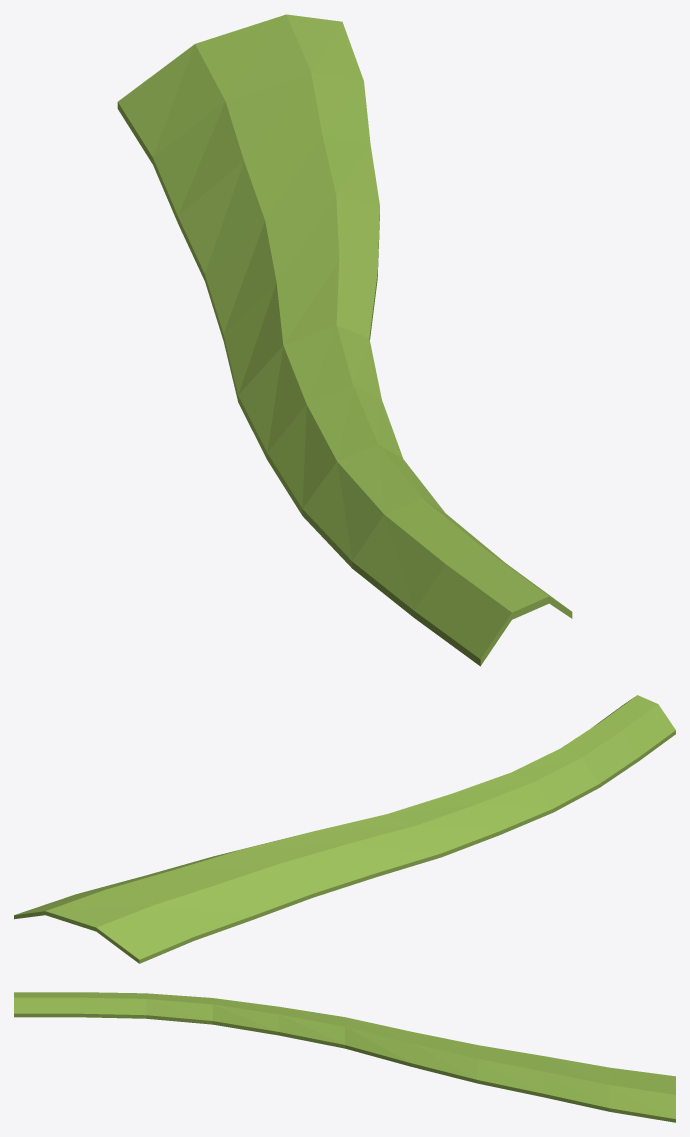
3 views of the same model, one above another, from view 1: azimuth 30°, elevation 25°; view 2: azimuth 150°, elevation 25°; view 3: azimuth 270°, elevation 25° (orthographic). The views are drawn at different scales.
Parts seen in each view (by area): view 1: 渐宽河口_右岸折纸.001; view 2: 渐宽河口_右岸折纸.001; view 3: 渐宽河口_右岸折纸.001.
Part boxes in pixels (x1,y1,x2,y2): 渐宽河口_右岸折纸.001: (117,14,572,666); 渐宽河口_右岸折纸.001: (14,695,675,963); 渐宽河口_右岸折纸.001: (14,992,675,1122).
Bounding box in the file's own units: 0.914 × 0.089 × 2.
